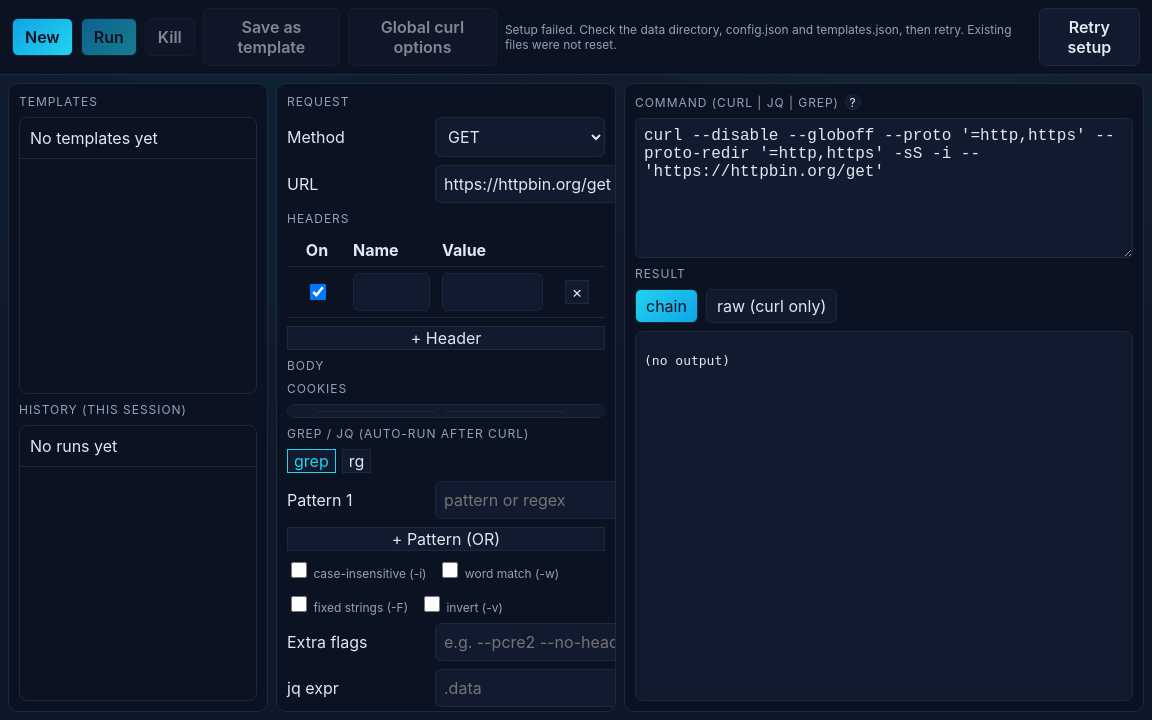
request execution regressions › offers setup retry without overwriting settings after a failed saved-state read
expect the message shows "Existing files were not reset": met, box 505,22 -> 1012,52
expect the button "Run" is disabled: met, box 81,18 -> 137,56
What coordinates should you click on to do the following:
click the button "Retry setup"
I would click on:
 (1089, 37)
Its box is 1039,8 -> 1140,66.
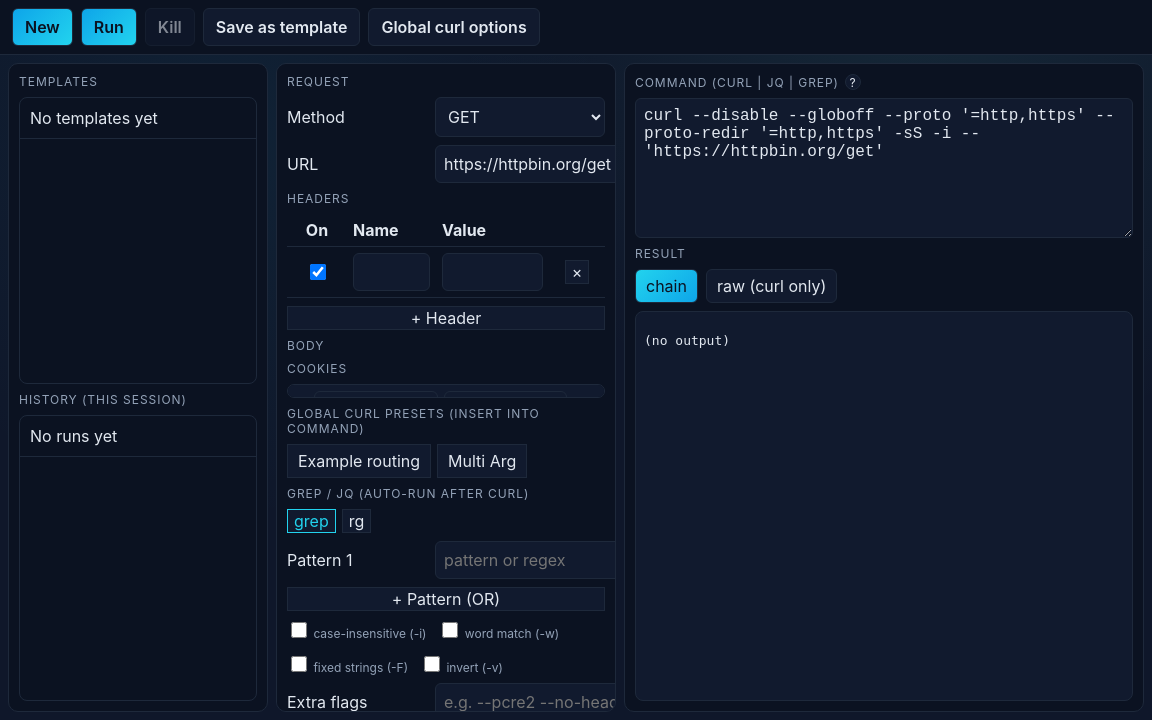
expect the button "Run" is enabled: met, box 81,8 -> 137,46
